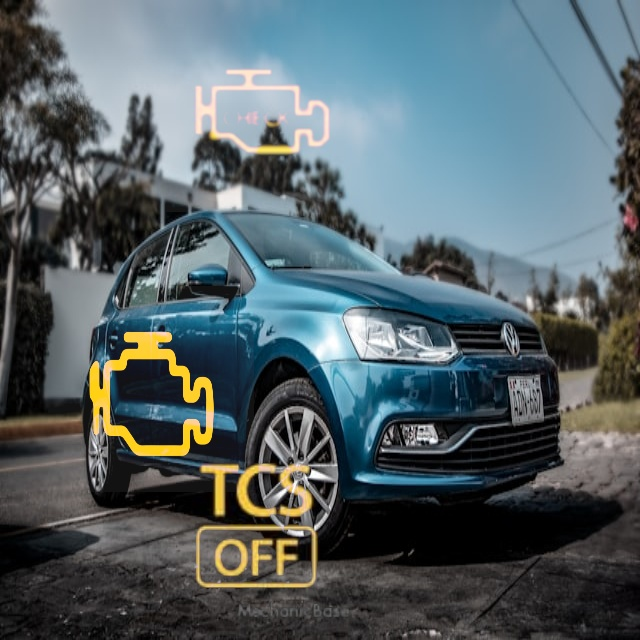symbol: (48, 286, 254, 492), (161, 12, 361, 212), (160, 430, 357, 627)
